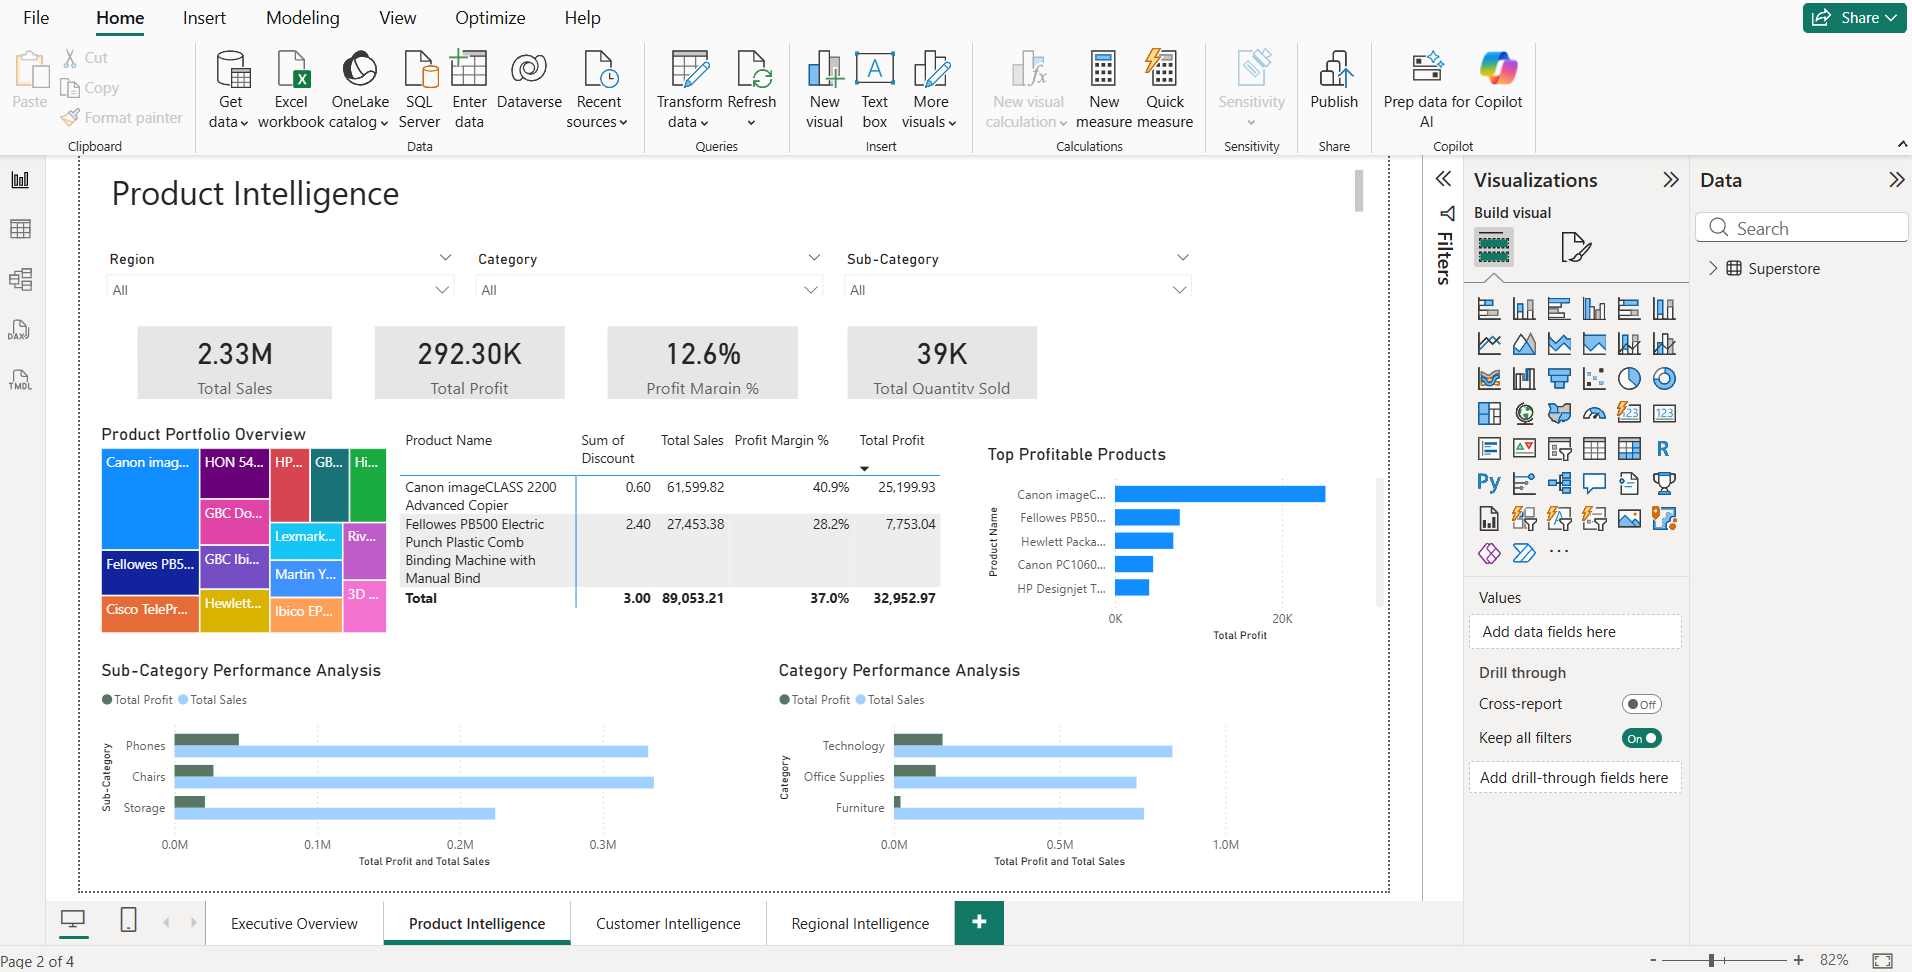

The dashboard page shown, as its layout file describes it:
{"tool":"powerbi","page":{"name":"Product Intelligence","canvas":[1280,720],"ordinal":1},"visuals":[{"type":"treemap","title":"Product Portfolio Overview","fields":{"Group":["Superstore.Product Name"],"Values":["Superstore.Total Sales"]},"box":[16.5,263.5,289.5,209.9],"z":0},{"type":"pivotTable","fields":{"Rows":["Superstore.Product Name"],"Values":["Sum(Superstore.Discount)","Superstore.Total Sales","Superstore.Profit Margin %","Superstore.Total Profit"]},"box":[308.7,263.5,573.6,230.5],"z":1000},{"type":"clusteredBarChart","title":"Top Profitable Products","fields":{"Y":["Superstore.Total Profit"],"Category":["Superstore.Product Name"]},"box":[882.3,282.7,397.9,199],"z":2000},{"type":"clusteredBarChart","title":"Sub-Category Performance Analysis","fields":{"Category":["Superstore.Sub-Category"],"Y":["Superstore.Total Profit","Superstore.Total Sales"]},"box":[16.5,494,584.6,208.6],"z":3000},{"type":"slicer","fields":{"Values":["Superstore.Region"]},"box":[15.9,88,360.7,51.4],"z":4000},{"type":"slicer","fields":{"Values":["Superstore.Category"]},"box":[376.6,88,360.7,51.4],"z":5000},{"type":"slicer","fields":{"Values":["Superstore.Sub-Category"]},"box":[737.4,88,360.7,51.4],"z":6000},{"type":"clusteredBarChart","title":"Category Performance Analysis","fields":{"Category":["Superstore.Category"],"Y":["Superstore.Total Profit","Superstore.Total Sales"]},"box":[679.2,494,461.1,208.6],"z":7000},{"type":"textbox","box":[1112,0,150,150],"z":8000},{"type":"textbox","box":[26.1,9.6,1235,65.9],"z":9000},{"type":"card","fields":{"Values":["Superstore.Total Sales"]},"box":[56.3,167.4,190.7,71.4],"z":10000},{"type":"card","fields":{"Values":["Superstore.Total Profit"]},"box":[288.2,167.4,185.2,71.4],"z":11000},{"type":"card","fields":{"Values":["Superstore.Profit Margin %"]},"box":[516,167.4,186.6,71.4],"z":12000},{"type":"card","fields":{"Values":["Superstore.Total Quantity Sold"]},"box":[750.6,167.4,185.2,71.4],"z":13000}]}

Visuals, with their boxes on the page's 1280x720 design canvas (x1, y1, x2, y2). These are canvas units, not pixel positions in the 1912x972 screenshot, which may show the page scaled, cropped or inside an application window:
"Product Portfolio Overview" treemap: {"left": 16, "top": 264, "right": 306, "bottom": 473}
pivotTable - Superstore.Product Name x Sum(Superstore.Discount): {"left": 309, "top": 264, "right": 882, "bottom": 494}
"Top Profitable Products" clusteredBarChart: {"left": 882, "top": 283, "right": 1280, "bottom": 482}
"Sub-Category Performance Analysis" clusteredBarChart: {"left": 16, "top": 494, "right": 601, "bottom": 703}
slicer - Superstore.Region: {"left": 16, "top": 88, "right": 377, "bottom": 139}
slicer - Superstore.Category: {"left": 377, "top": 88, "right": 737, "bottom": 139}
slicer - Superstore.Sub-Category: {"left": 737, "top": 88, "right": 1098, "bottom": 139}
"Category Performance Analysis" clusteredBarChart: {"left": 679, "top": 494, "right": 1140, "bottom": 703}
textbox: {"left": 1112, "top": 0, "right": 1262, "bottom": 150}
textbox: {"left": 26, "top": 10, "right": 1261, "bottom": 76}
card - Superstore.Total Sales: {"left": 56, "top": 167, "right": 247, "bottom": 239}
card - Superstore.Total Profit: {"left": 288, "top": 167, "right": 473, "bottom": 239}
card - Superstore.Profit Margin %: {"left": 516, "top": 167, "right": 703, "bottom": 239}
card - Superstore.Total Quantity Sold: {"left": 751, "top": 167, "right": 936, "bottom": 239}
